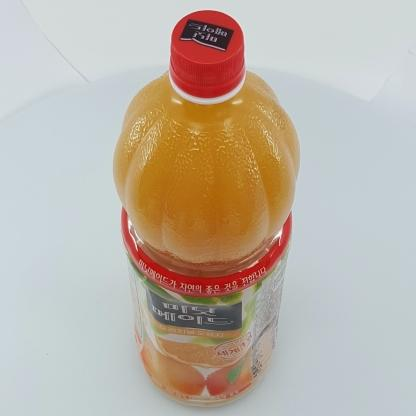------------1-5L: (112, 10, 301, 408)
